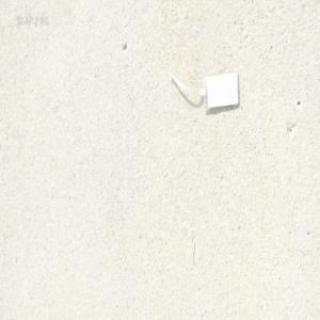LuggageTagtrack_idkeyframe: (164, 68, 240, 113)
